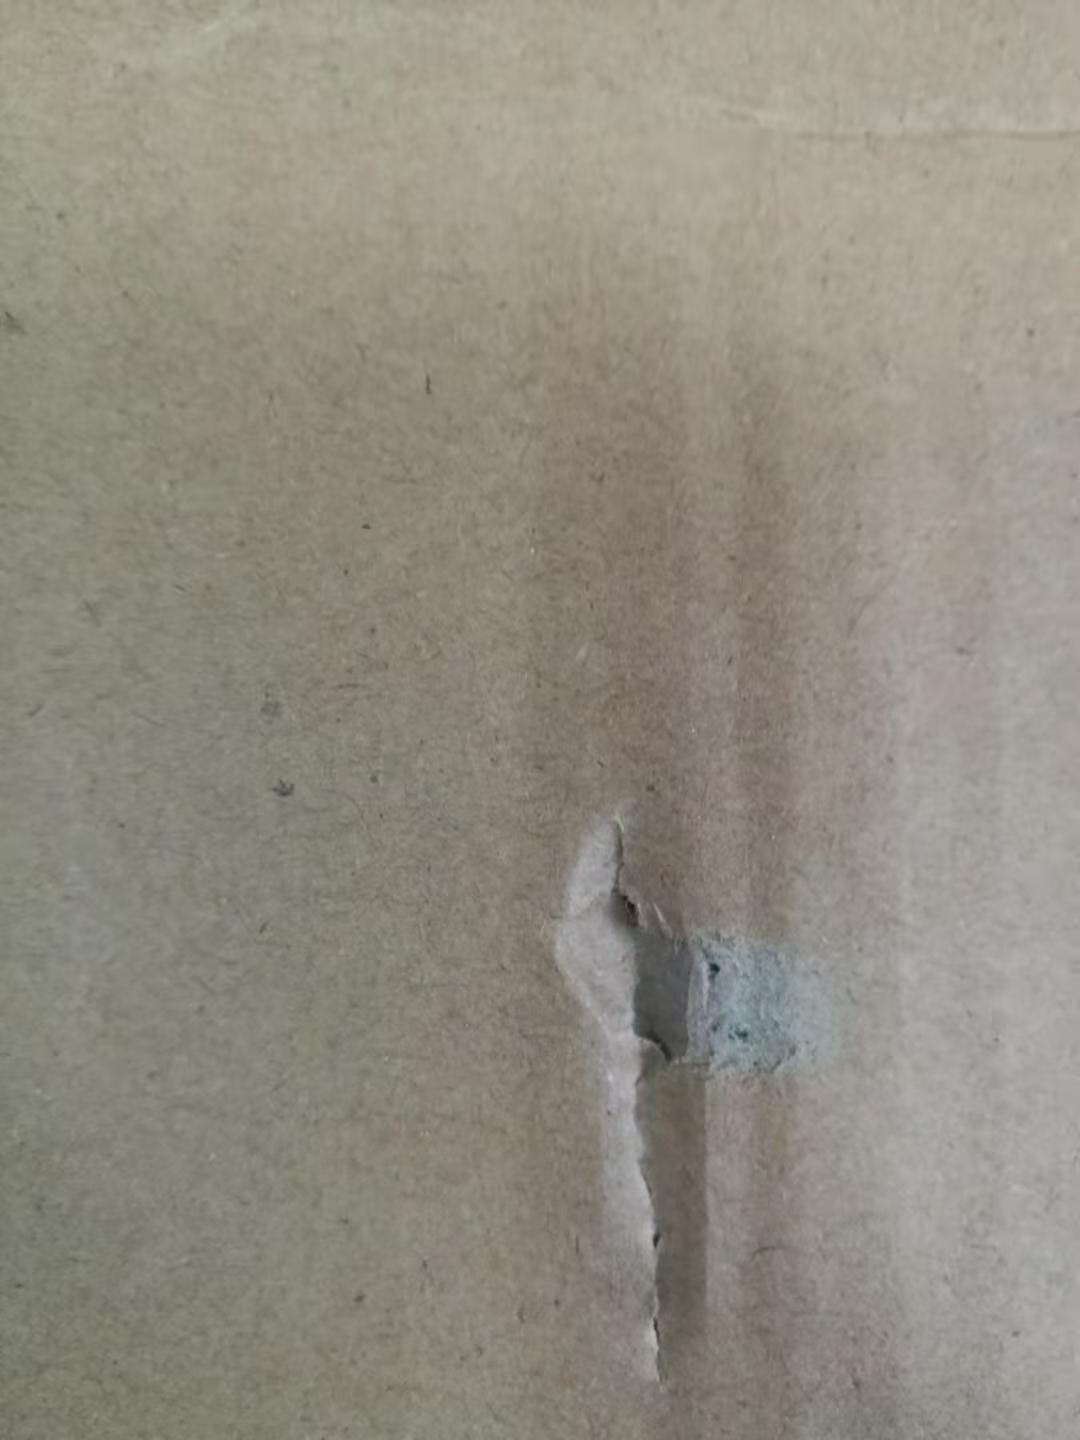defect: (506, 759, 869, 1418), (680, 76, 1080, 173)
